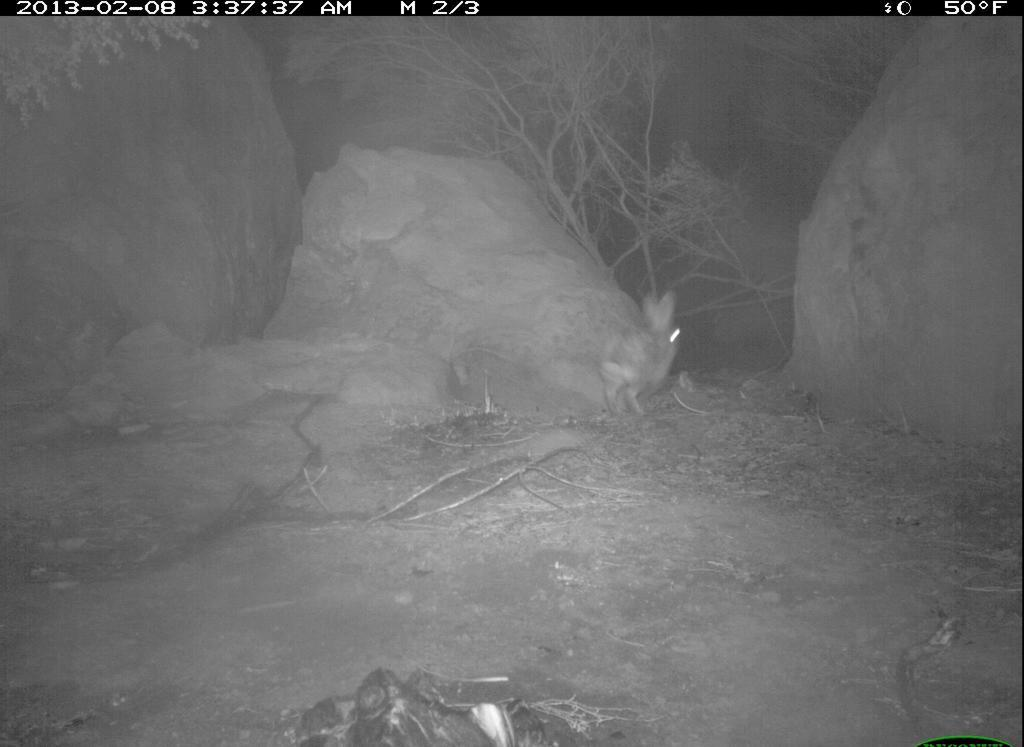rabbit: (578, 268, 710, 423)
